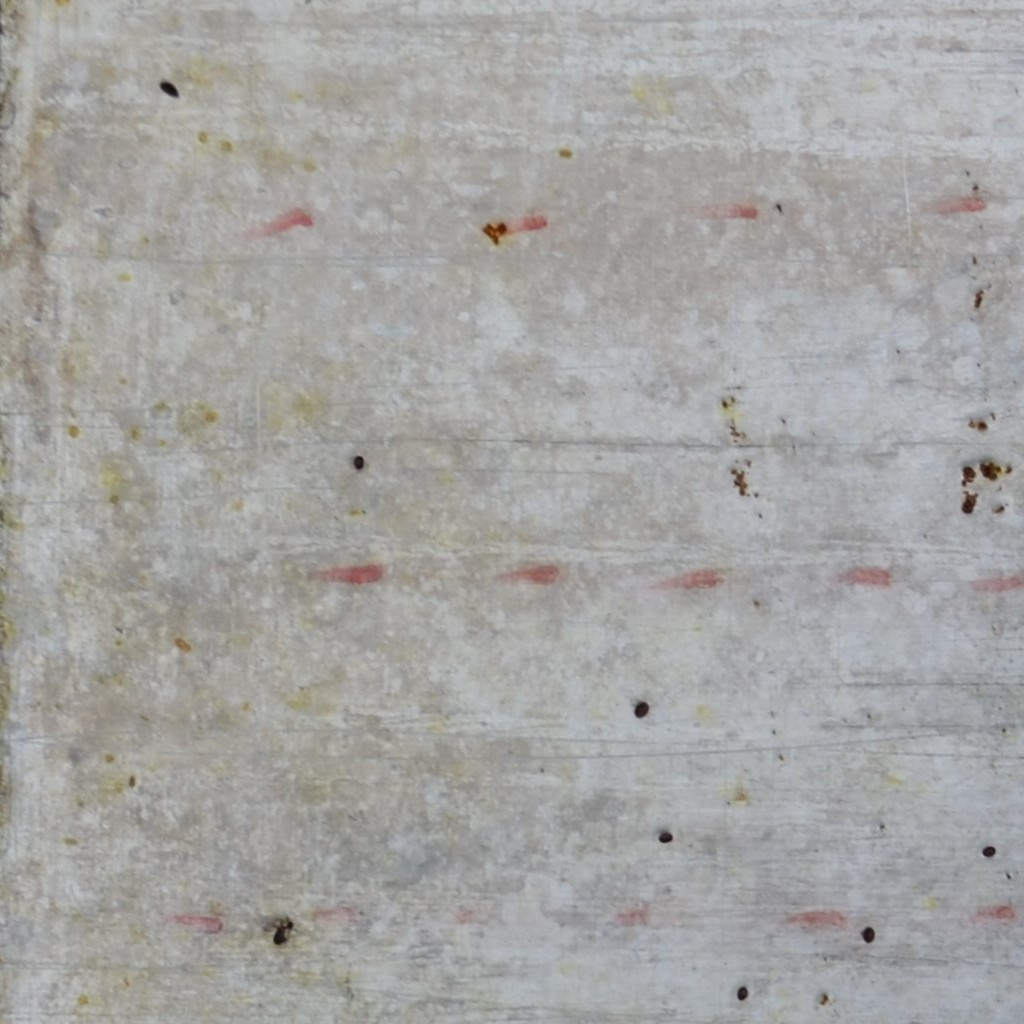varroa: (157, 73, 180, 101), (858, 923, 879, 948), (349, 449, 368, 474), (632, 696, 650, 721), (979, 841, 998, 860), (733, 983, 751, 1003), (657, 826, 675, 846)
